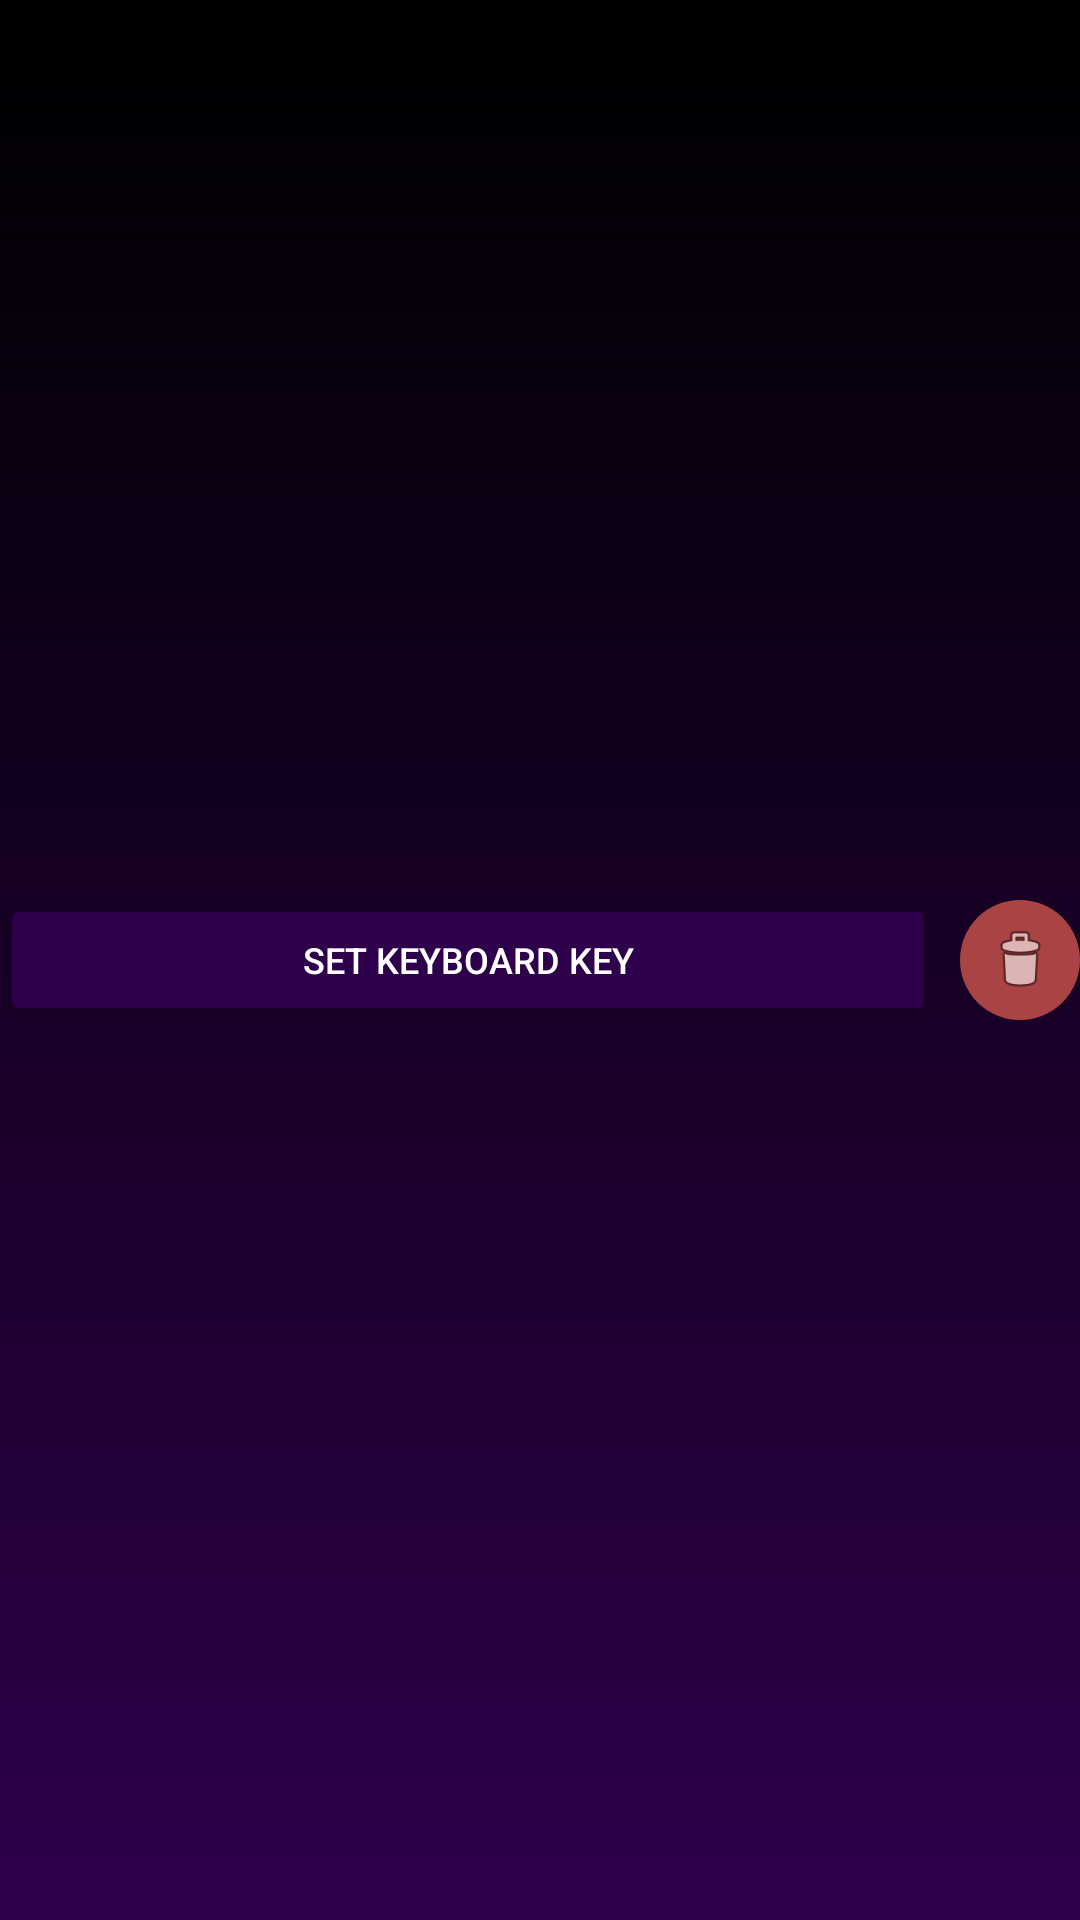

Point at icon controls on the screen. Image size 1080*1920, points as (x,y).
delete: (1020,960)
